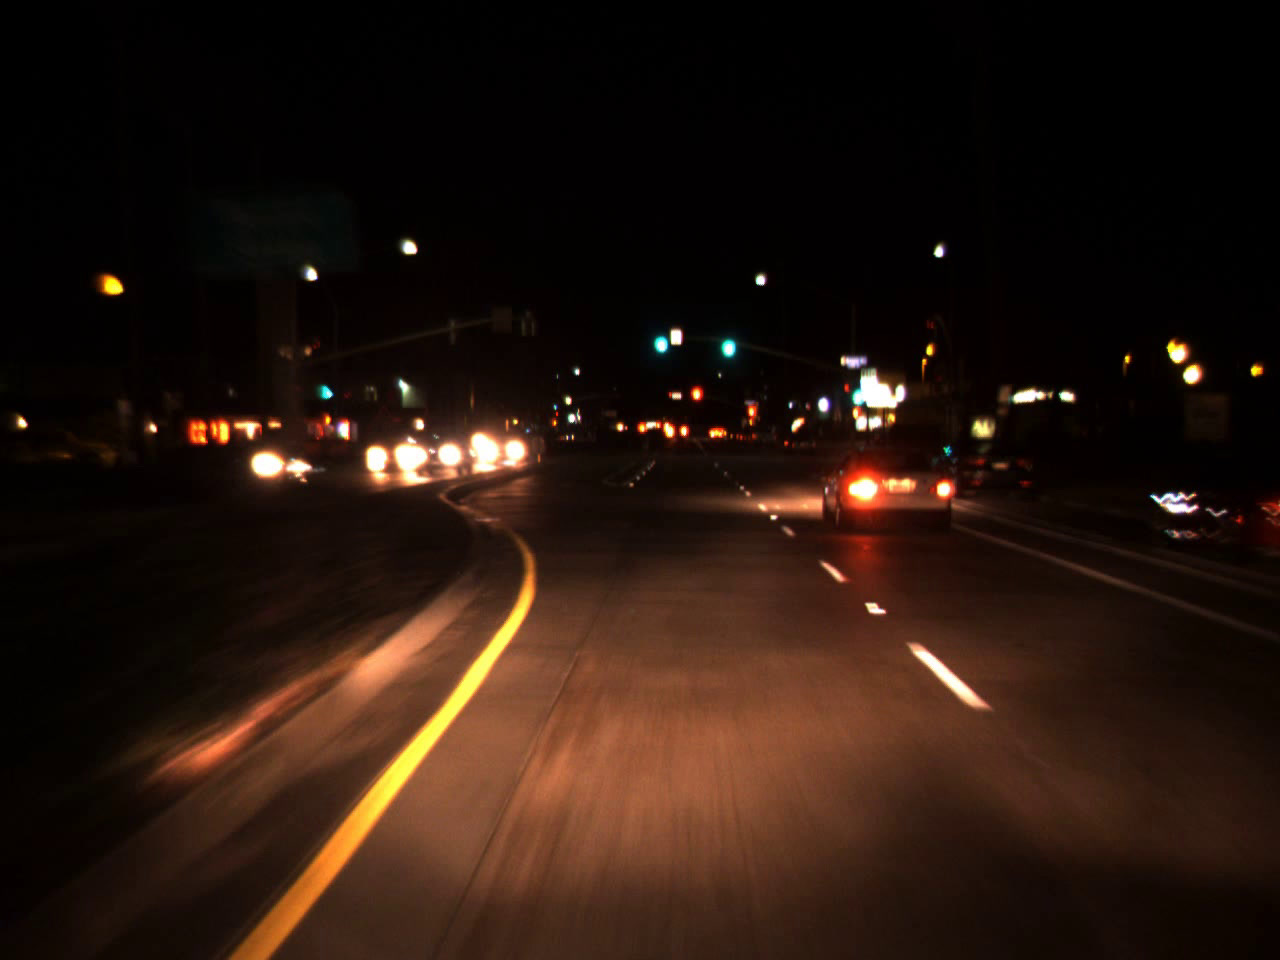go: (715, 316, 738, 364), (649, 314, 670, 359), (847, 373, 863, 409), (321, 368, 329, 404)
stop: (688, 383, 706, 418), (747, 403, 757, 435)
